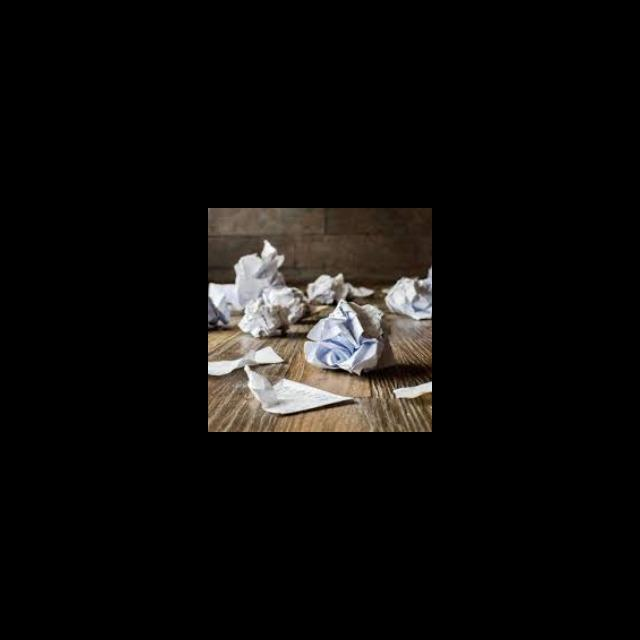paper: (295, 295, 400, 378), (241, 285, 314, 337)
